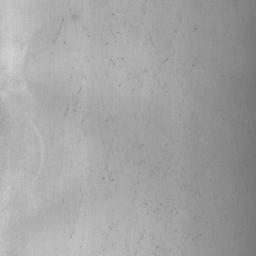Silk spot: (52, 17, 64, 44), (69, 8, 80, 22), (101, 172, 114, 182), (0, 104, 5, 129)
